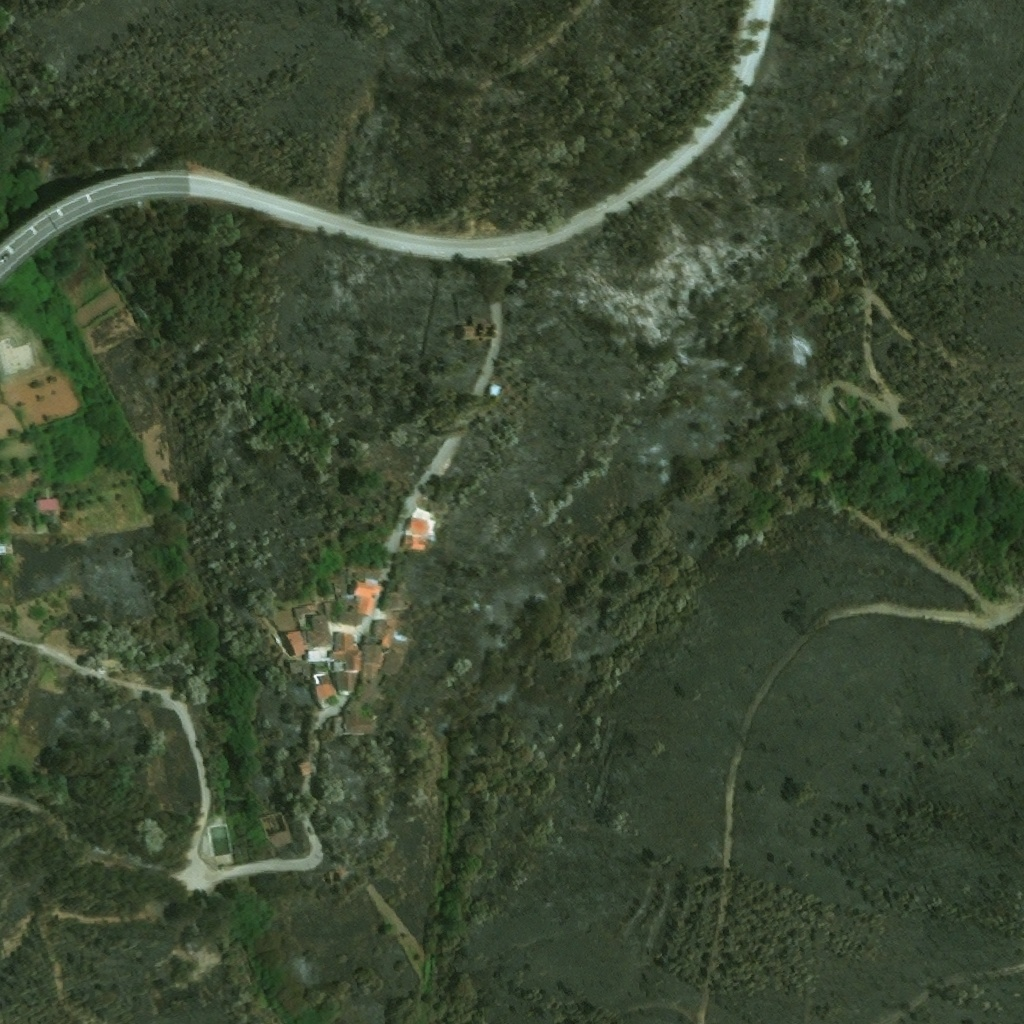0 no-damage: (325, 574, 385, 629), (344, 701, 388, 739), (364, 620, 409, 655), (402, 507, 437, 551), (360, 645, 384, 704), (312, 662, 340, 708), (333, 634, 361, 673), (272, 608, 299, 637), (296, 603, 324, 630), (308, 615, 332, 645), (334, 663, 351, 696), (290, 635, 311, 661), (266, 830, 293, 850), (383, 651, 404, 675), (306, 646, 332, 663), (290, 660, 311, 681), (299, 760, 320, 778), (386, 592, 405, 611), (36, 500, 58, 516), (0, 545, 13, 561), (489, 383, 503, 397)
3 destroyed: (463, 319, 497, 340)
